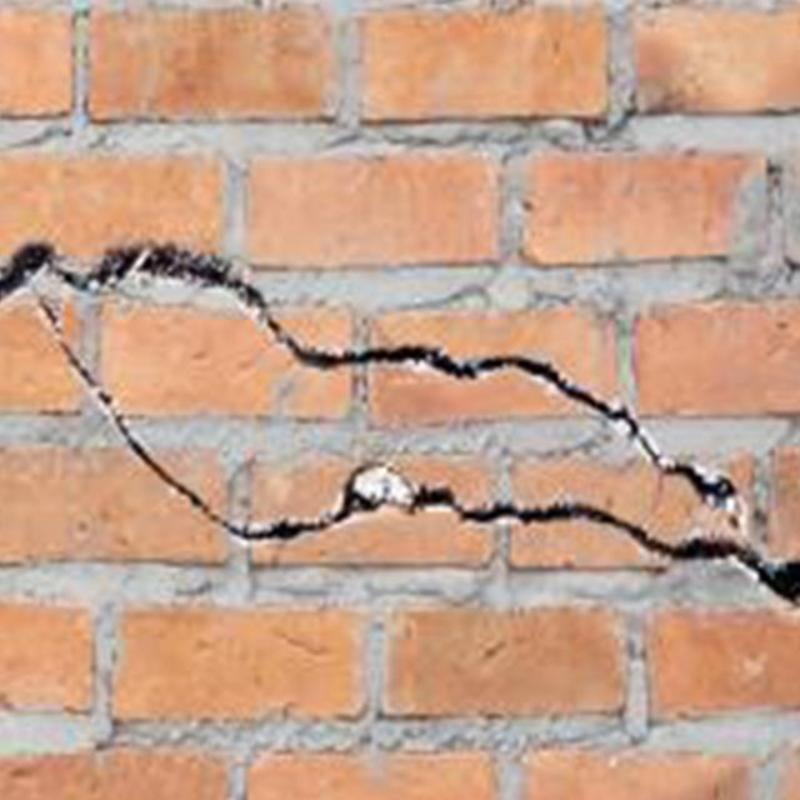pothole: (0, 244, 800, 605)
